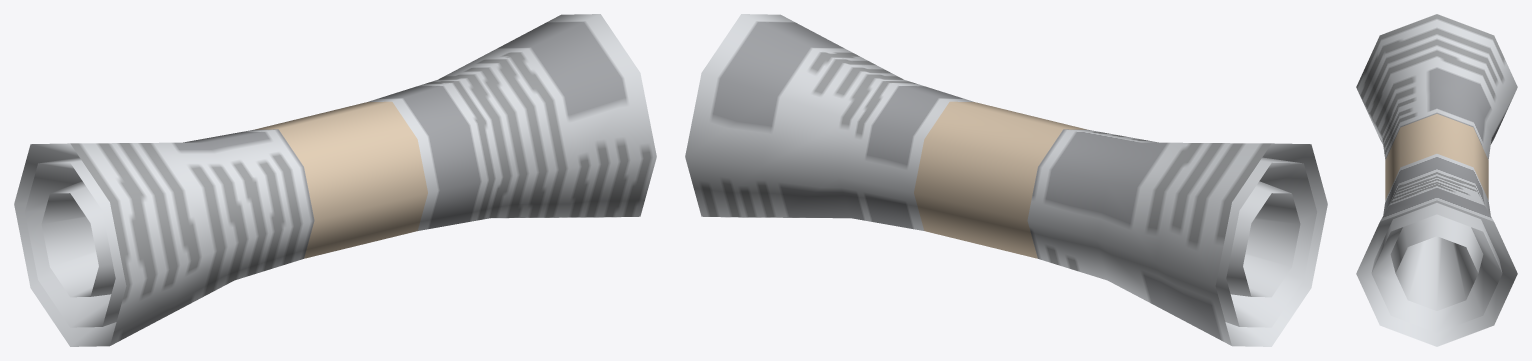
File: Newspaper_close.fbx
3 renders of one model, left to right at view 1: azimuth 30°, elevation 25°; view 2: azimuth 150°, elevation 25°; view 3: azimuth 270°, elevation 25°, orthographic. The views are drawn at different scales.
Parts seen in each view (by area): view 1: Newspappaer1; view 2: Newspappaer1; view 3: Newspappaer1.
Part boxes in pixels (<box>): Newspappaer1: <box>14,14,656,346</box>; Newspappaer1: <box>685,14,1327,346</box>; Newspappaer1: <box>1356,14,1517,346</box>.
Size of the model in its own units: 74.7 by 27.39 by 27.39.
